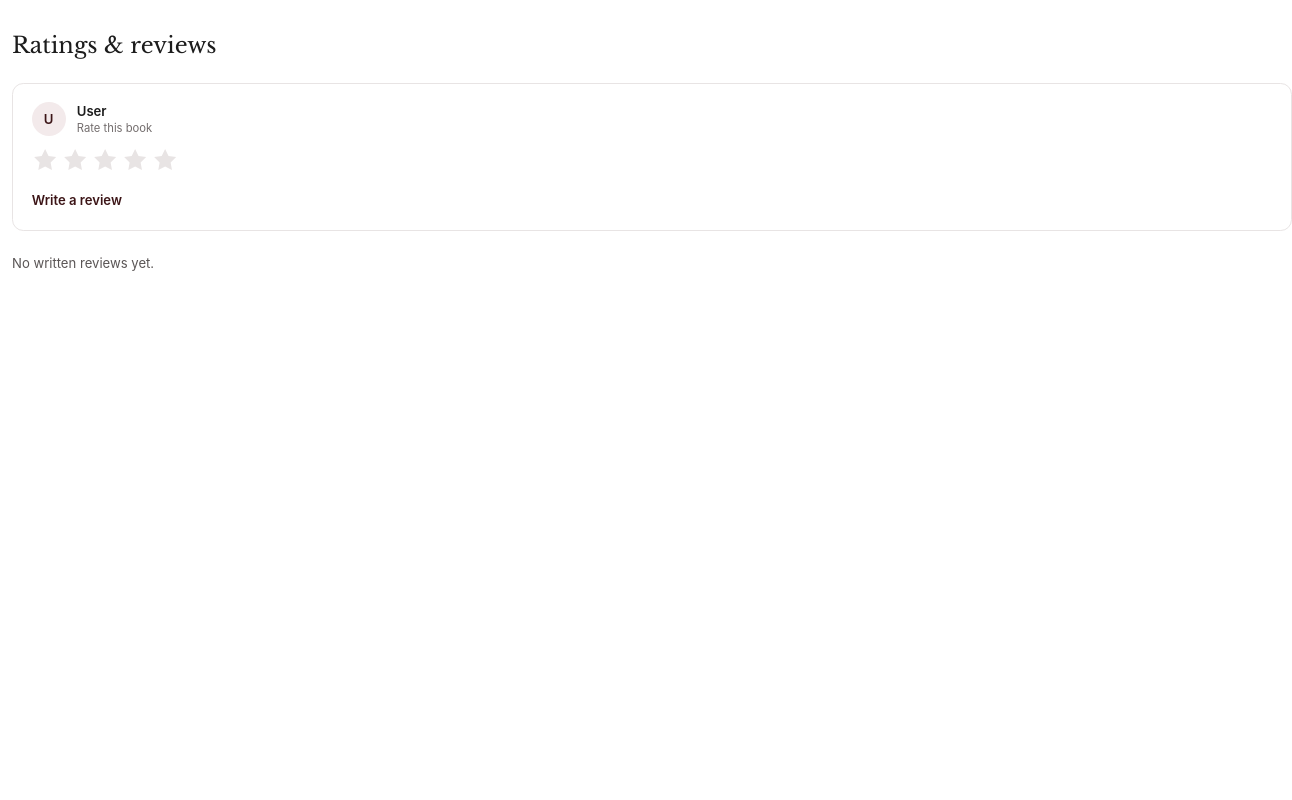
BookReviews › should open the editor once a chosen rating is saved
Step 1. Click the button named "Rate 4 of 5" → (135, 160), box [122,147,148,174]
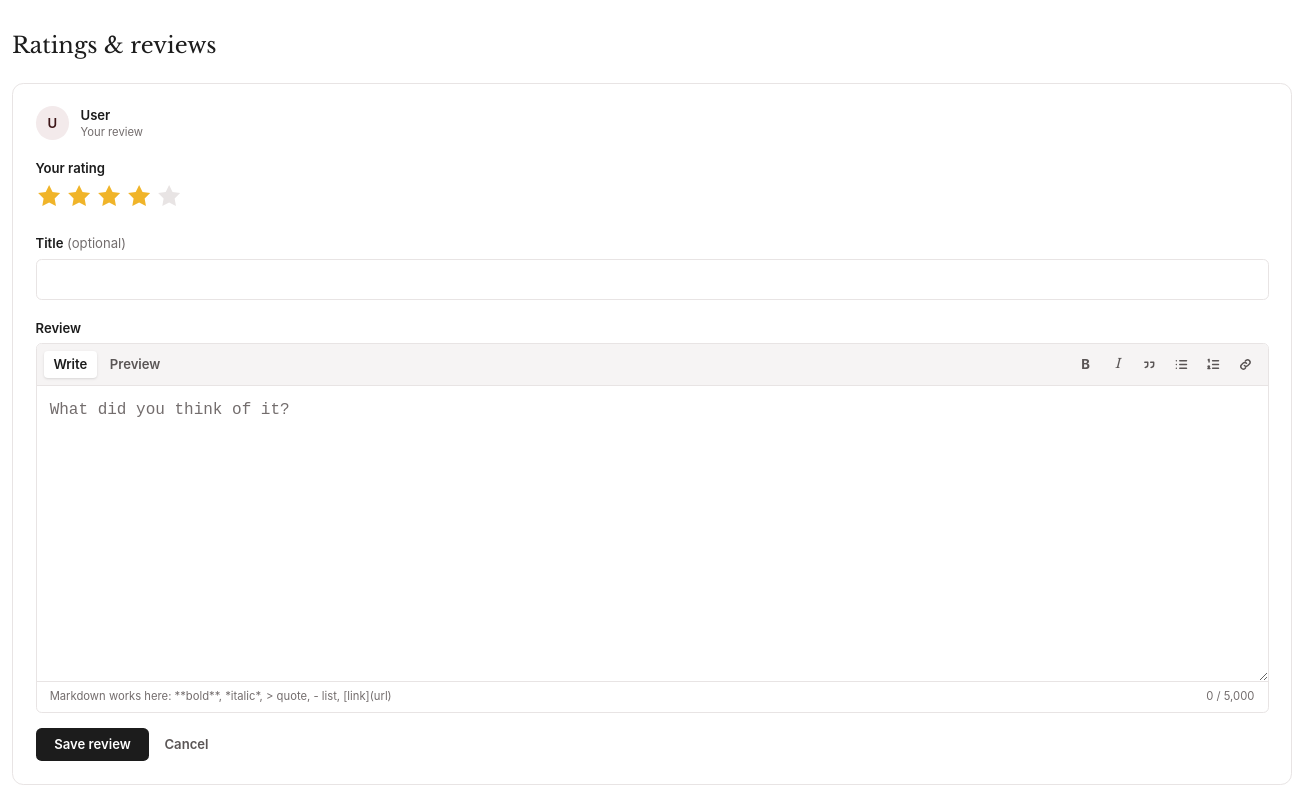
Result: the text box labelled "Review" is shown at [36,386,1268,680]
